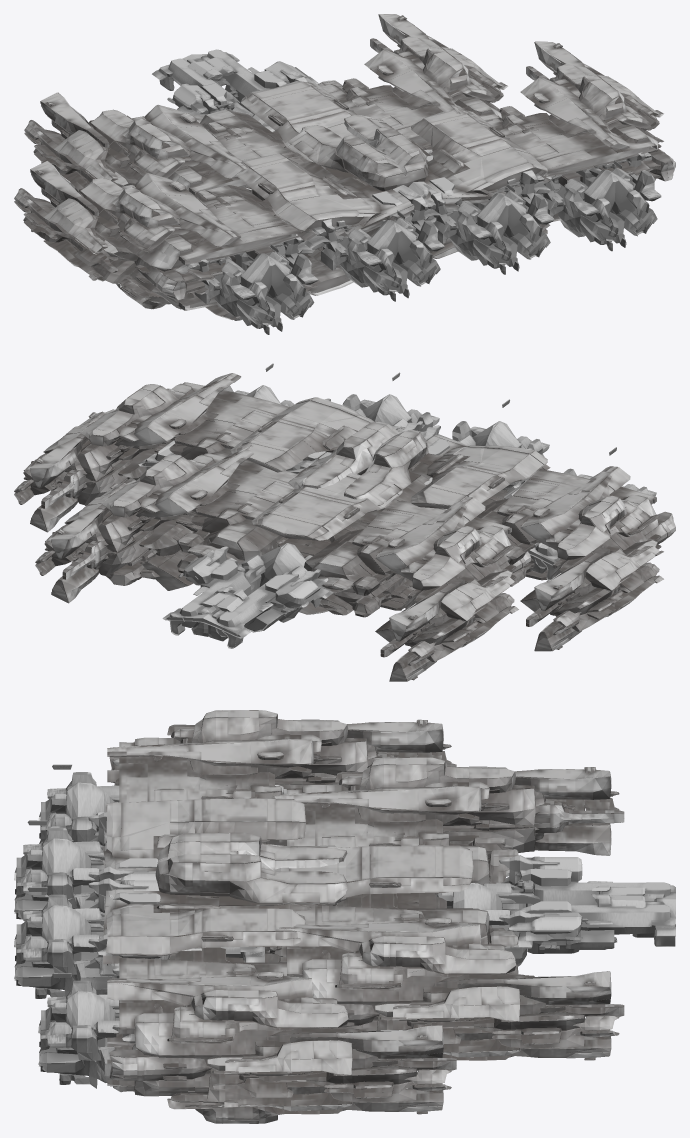
File: BATTLESHIP_002.fbx
3 views of the same model, one above another, from view 1: azimuth 30°, elevation 25°; view 2: azimuth 150°, elevation 25°; view 3: azimuth 270°, elevation 25° (orthographic). The views are drawn at different scales.
Visible parts, largest first — view 1: BATTLESHIP_002; view 2: BATTLESHIP_002; view 3: BATTLESHIP_002.
Part boxes in pixels (x1,y1,x2,y2): BATTLESHIP_002: (14,14,675,334); BATTLESHIP_002: (14,363,675,681); BATTLESHIP_002: (14,710,675,1123).
Size of the model in its own units: 186 by 33.95 by 147.
